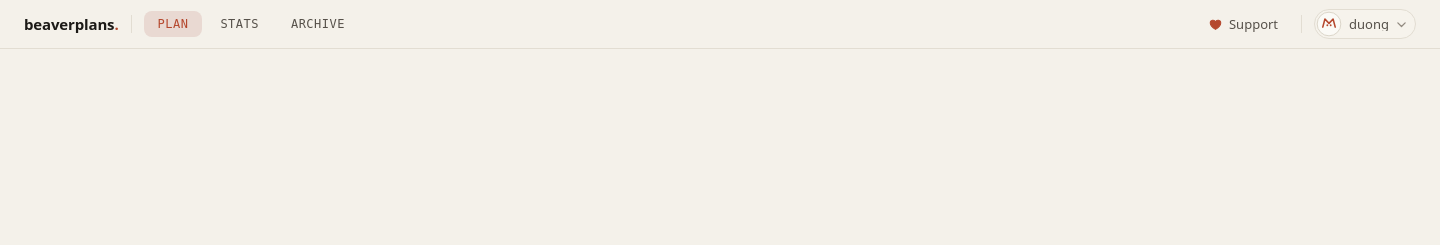
Scenario: TopBar › signed in the chip replaces Guest and opens the dropdown, not a dialog
Click the button with aria-label "you@example.com" at {"x": 1365, "y": 24}, box [1314, 9, 1416, 39]
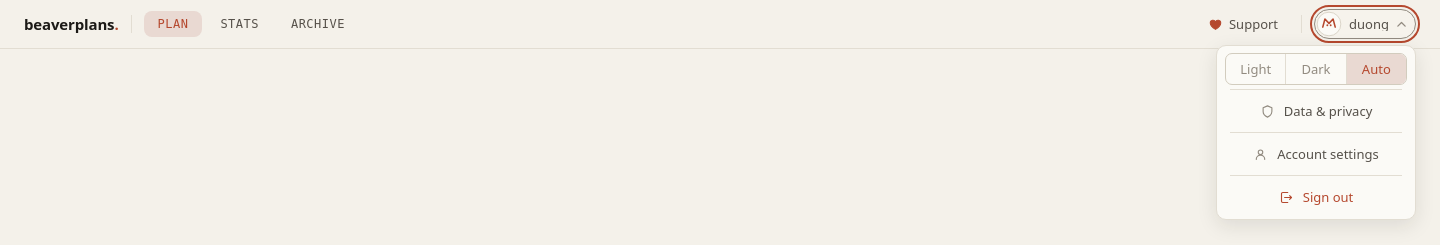
Now the menu is shown, box [1216, 45, 1416, 220]
Now the button with aria-label "you@example.com" is expanded, box [1314, 9, 1416, 39]
